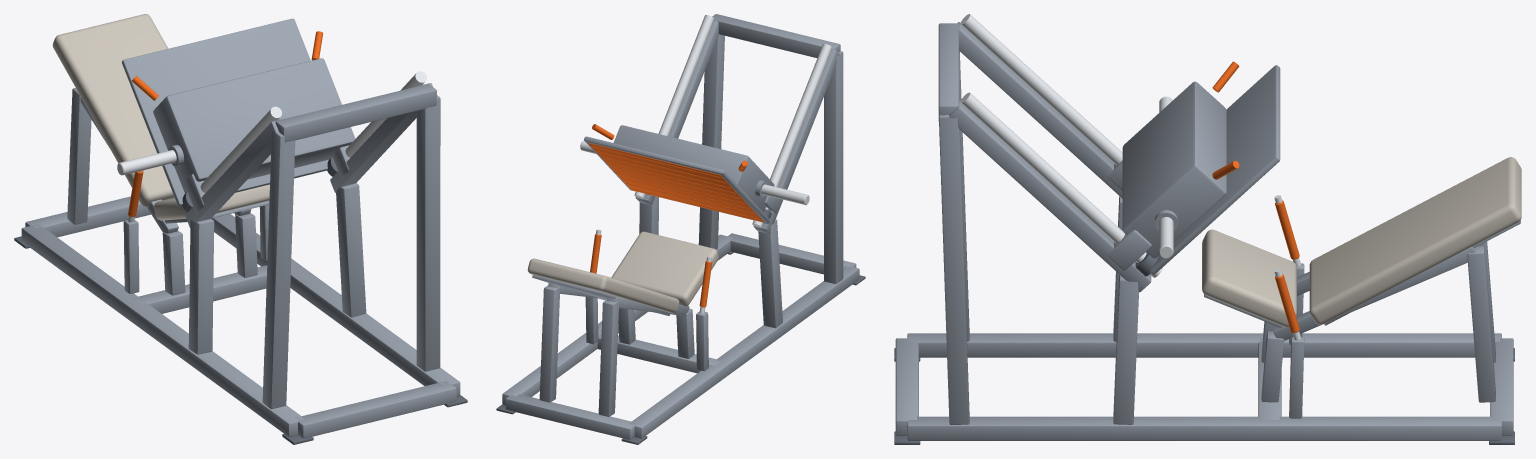
The model's file is leg-press-45.glb.
The picture shows the model from 3 angles, left to right: view 1: azimuth 30°, elevation 25°; view 2: azimuth 150°, elevation 25°; view 3: azimuth 270°, elevation 25°; orthographic projection. The views are drawn at different scales.
Visible parts, largest first — view 1: frame.frame, sled.frame, frame.pad, frame.chrome, sled.chrome, frame.rubber, sled.grip; view 2: frame.frame, frame.pad, sled.frame, sled.tread, frame.chrome, sled.chrome, frame.grip; view 3: frame.frame, frame.pad, sled.frame, frame.chrome, frame.grip, sled.chrome, frame.rubber.
Boxes of the visible parts, box(x1,y1,x2,y2) form: frame.frame: box(21, 83, 460, 438); sled.frame: box(122, 18, 355, 213); frame.pad: box(52, 14, 269, 220); frame.chrome: box(128, 71, 426, 222); sled.chrome: box(117, 150, 176, 175); frame.rubber: box(14, 157, 467, 444); sled.grip: box(132, 31, 323, 100); frame.frame: box(502, 14, 859, 439); frame.pad: box(527, 231, 718, 313); sled.frame: box(584, 125, 781, 223); sled.tread: box(588, 143, 763, 222); frame.chrome: box(596, 15, 832, 313); sled.chrome: box(580, 140, 809, 204); frame.grip: box(590, 234, 712, 307); frame.frame: box(895, 22, 1520, 440); frame.pad: box(1202, 157, 1521, 327); sled.frame: box(1107, 65, 1280, 274); frame.chrome: box(960, 14, 1300, 340); frame.grip: box(1275, 200, 1299, 333); sled.chrome: box(1159, 96, 1173, 258); frame.rubber: box(894, 253, 1514, 444).
Size of the model in its own units: 1.22 by 1.31 by 2.16.
